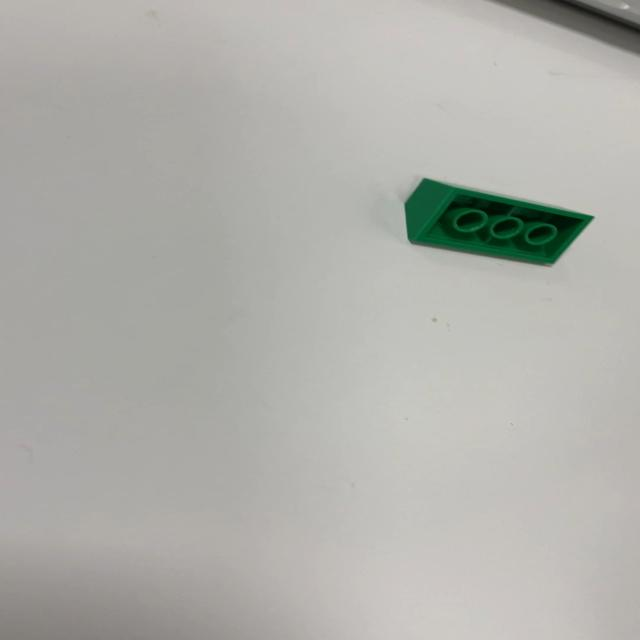P4x2x1: (402, 176, 594, 266)
